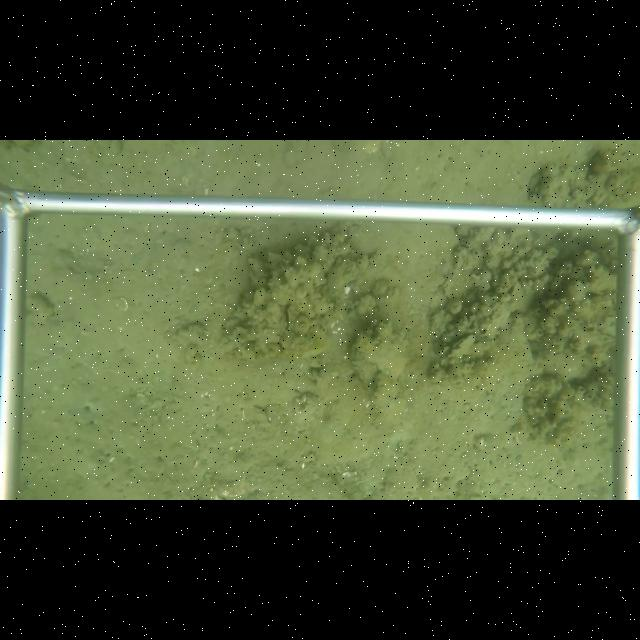Oyster-Open: (436, 333, 477, 371), (282, 309, 291, 334)
